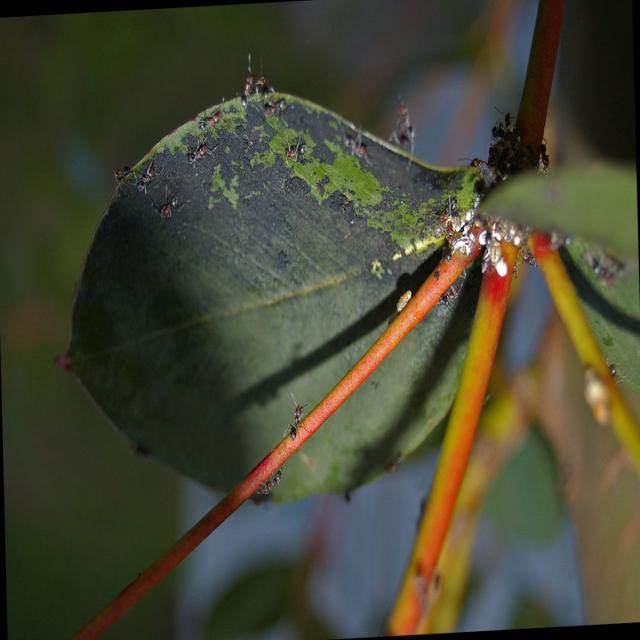Sooty Mold: (105, 68, 444, 544)
